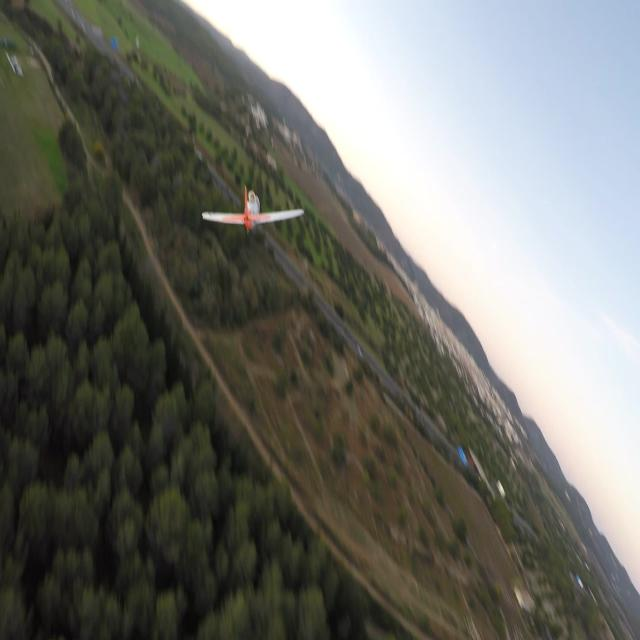iha: (233, 184, 273, 234)
